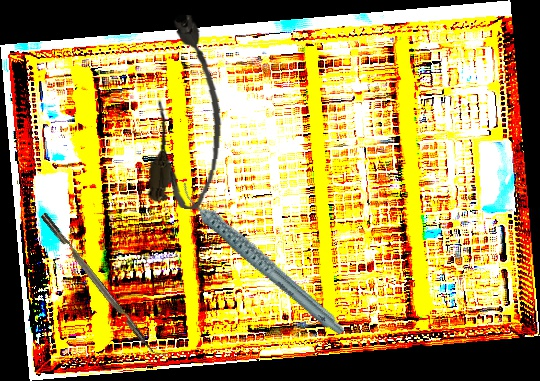Cannula: (146, 12, 231, 212)
Chopper: (40, 206, 168, 364)
Handpiece: (178, 154, 347, 363)
